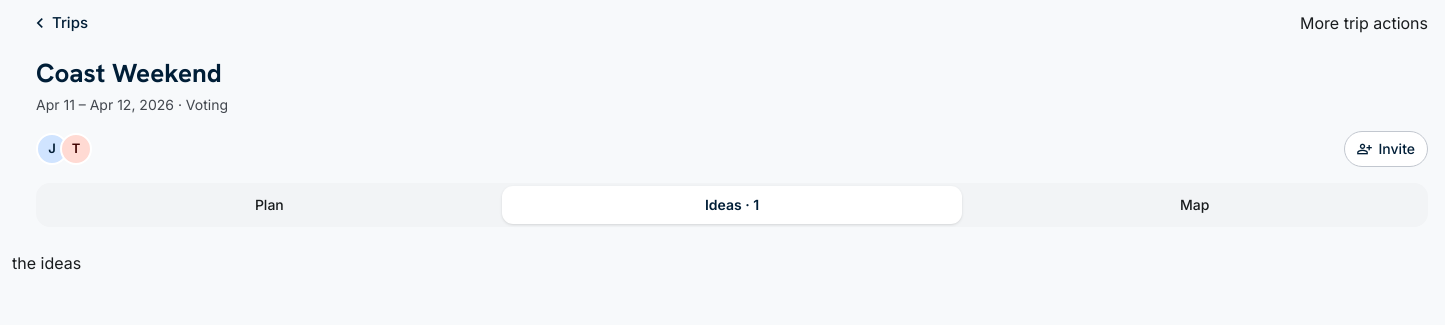
Test: a trip’s page on a phone (#294) › opens a voting trip on its ideas, its plan saying it waits on the vote
Expected: the text "the ideas" is shown, [12, 252, 81, 272]
Click the button "Plan". click: {"x": 269, "y": 204}
box: [39, 186, 500, 224]
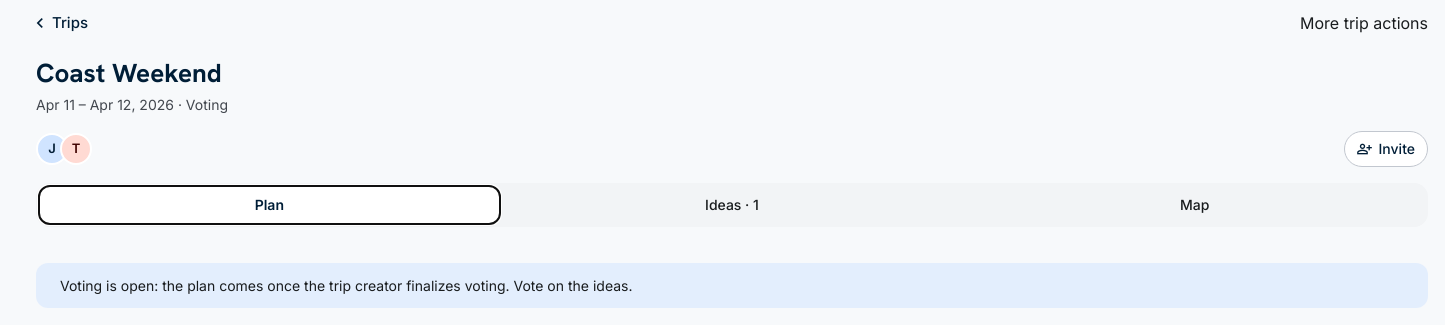
Result: the text "the plan comes once the trip creator finalizes voting" is shown at [60, 276, 632, 294]
